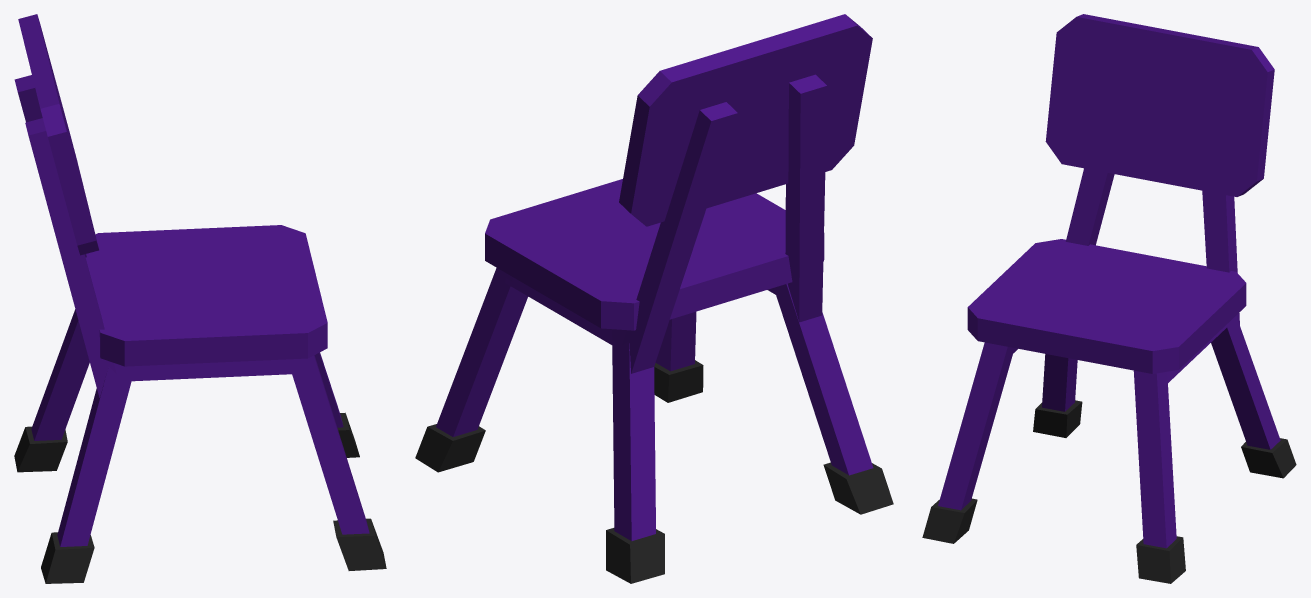
File: ghe1.fbx
3 views of the same model, side by side, from view 1: azimuth 30°, elevation 25°; view 2: azimuth 150°, elevation 25°; view 3: azimuth 270°, elevation 25° (orthographic). The views are drawn at different scales.
Parts seen in each view (by area): view 1: ghe1; view 2: ghe1; view 3: ghe1.
Boxes of the visible parts, <box> form: ghe1: <box>14,14,386,583</box>; ghe1: <box>415,14,893,583</box>; ghe1: <box>922,14,1296,583</box>.
Size of the model in its own units: 136 by 159 by 130.
